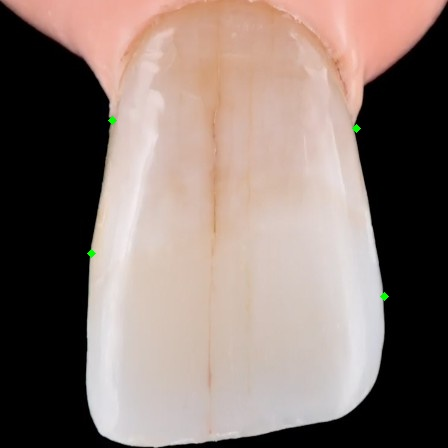coin_1: (356, 128, 376, 148)
coin_2: (384, 296, 404, 316)
coin_3: (112, 120, 132, 140)
coin_4: (91, 253, 111, 273)
